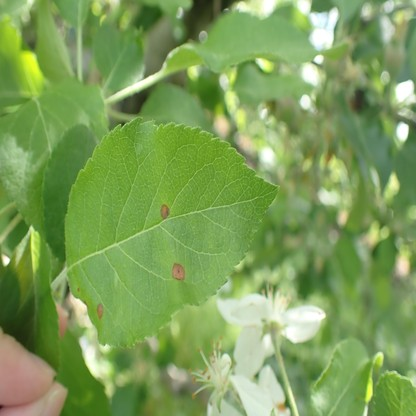frogeye_leaf_spot: (172, 262, 185, 279), (161, 205, 169, 220), (97, 302, 102, 320)
